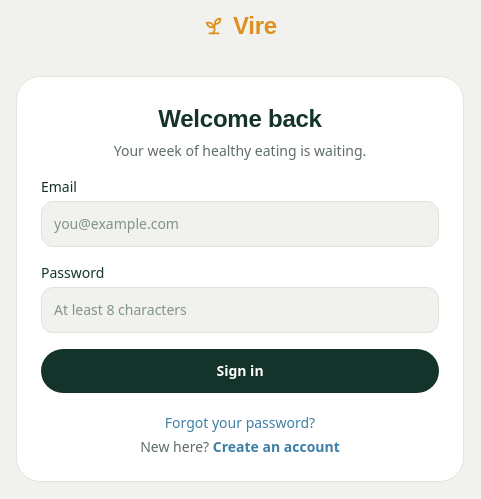
Test case: invite-only registration › lets an allowlisted address through to the confirmation step
Click the button "Create an account" at [276, 447], box [213,437,340,457]
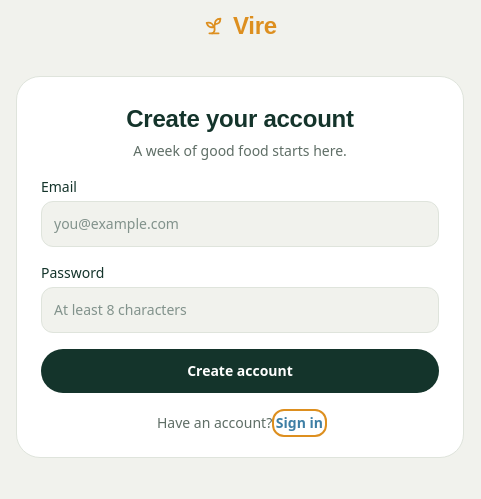
Type "owner@example.com" into the field labelled "Email" at [240, 224], box [41,201,439,247]
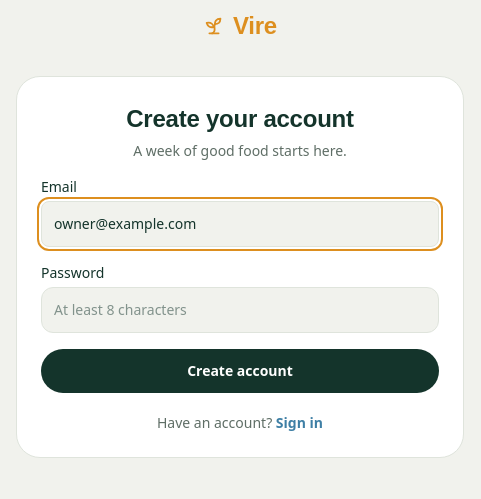
Type "correct horse" into the password field labelled "Password" at [240, 310], box [41,287,439,333]
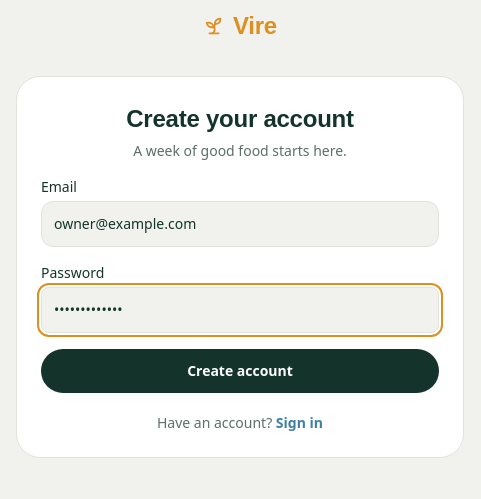
Click the button "Create account" at [240, 371], box [41,349,439,393]
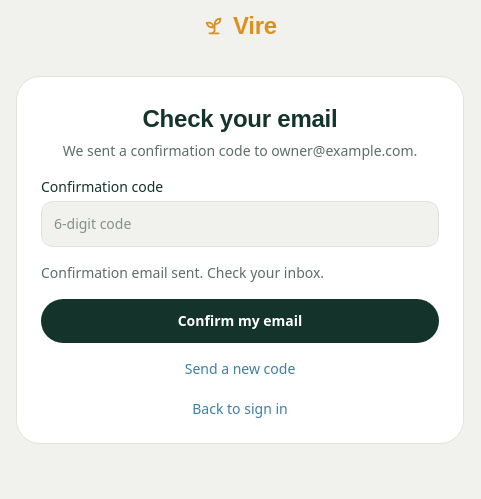
expect the heading "Check your email" is shown: met, box [142,105,337,132]
expect the text "Confirmation email sent. Check your inbox." is shown: met, box [41,263,324,282]
